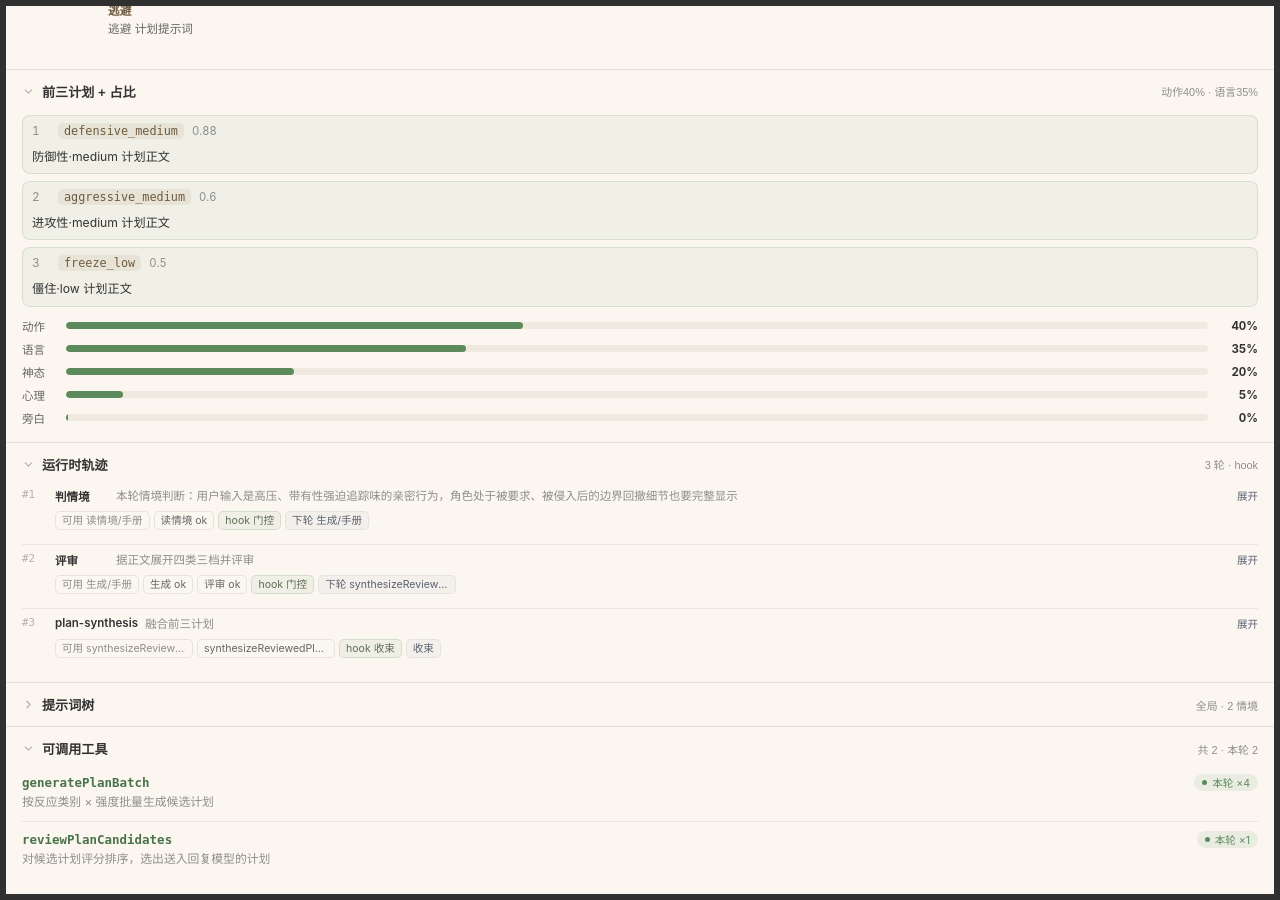
it: PersonalityModelOrchestrationAuditPanel › 展开提示词树只读展示本地配置并以圆点标注本轮已读
(page scrolled)
Click the button with class "sec-h2" showing "提示词树 全局 · 2 情境": [68, 706] box [6,683,1274,726]
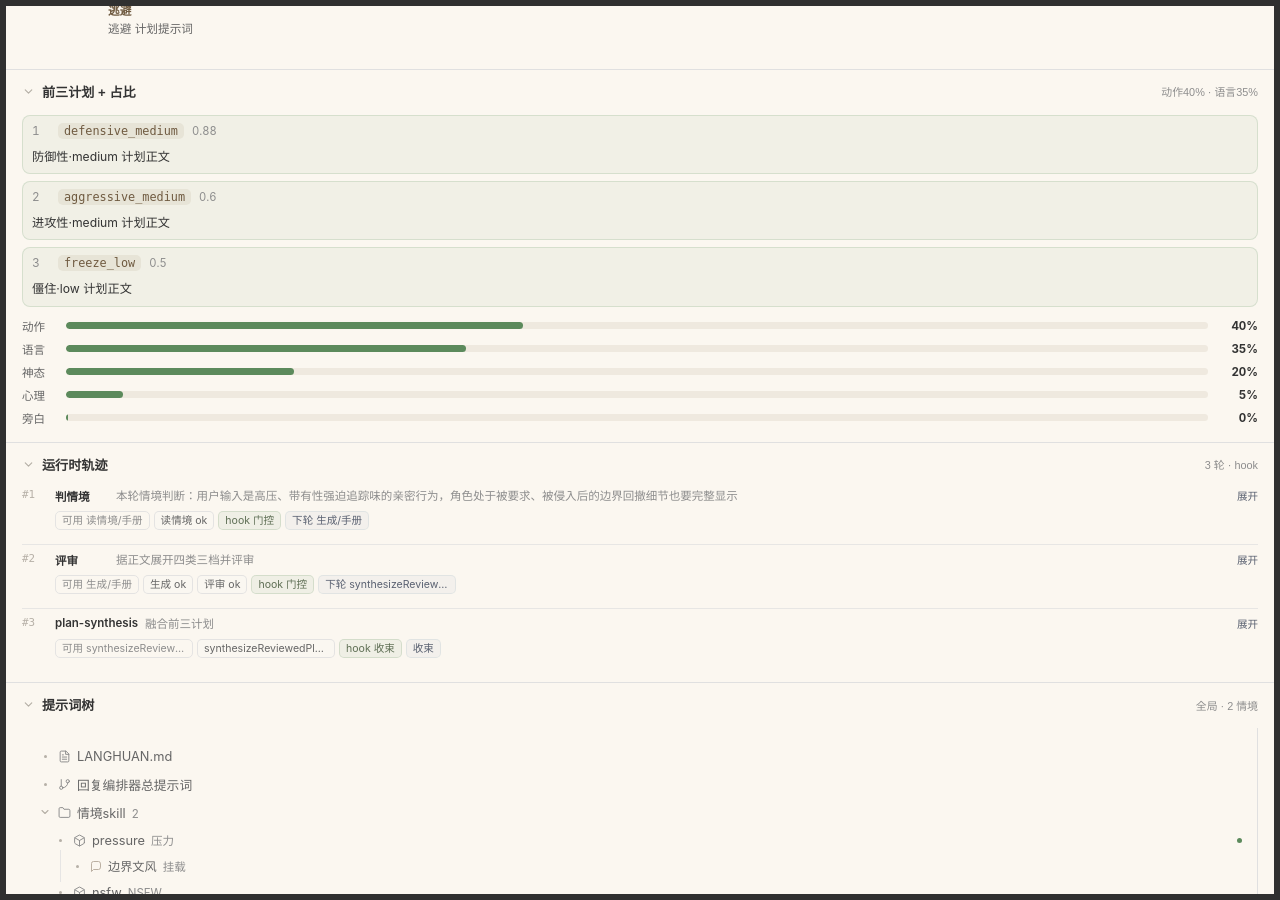
Check: the text "LANGHUAN.md" is shown, box [77,749,172,764]
Check: the text "回复编排器总提示词" is shown, box [77,778,192,793]
Check: the text "情境skill" is shown, box [77,806,126,821]
